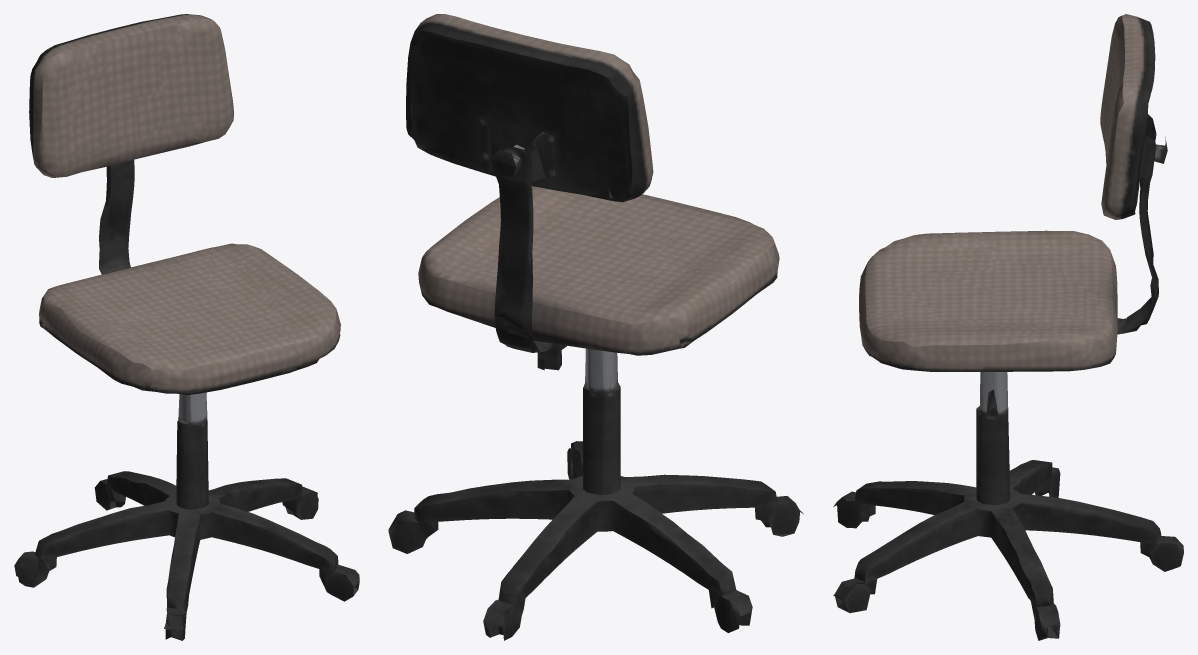
Rendered from room_chair.glb.
The picture shows the model from 3 angles, left to right: view 1: azimuth 30°, elevation 25°; view 2: azimuth 150°, elevation 25°; view 3: azimuth 270°, elevation 25°; orthographic projection. The views are drawn at different scales.
Parts seen in each view (by area): view 1: mesh; view 2: mesh; view 3: mesh.
Boxes of the visible parts, x1,y1,x2,y2 form: mesh: (14,14,359,640); mesh: (388,14,803,640); mesh: (833,14,1183,640).
Size of the model in its own units: 0.571 by 0.89 by 0.5472.
1 material, 1 textured.
